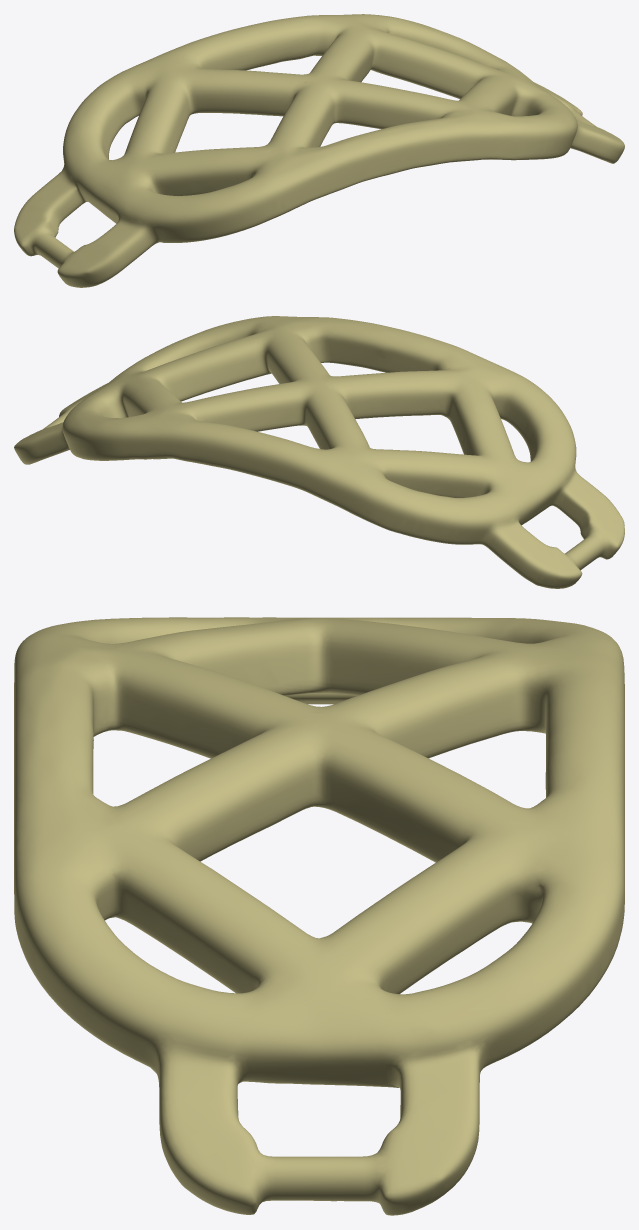
Rendered from samu2-piegato.glb.
3 renders of one model, top to bottom at view 1: azimuth 30°, elevation 25°; view 2: azimuth 150°, elevation 25°; view 3: azimuth 270°, elevation 25°, orthographic. The views are drawn at different scales.
Parts seen in each view (by area): view 1: SAMU2 PIEGATO; view 2: SAMU2 PIEGATO; view 3: SAMU2 PIEGATO.
Boxes of the visible parts, box(x1,y1,x2,y2) form: SAMU2 PIEGATO: box(14, 14, 624, 287); SAMU2 PIEGATO: box(14, 316, 624, 588); SAMU2 PIEGATO: box(14, 617, 624, 1215).
Size of the model in its own units: 0.0605 by 0.0134 by 0.03.
